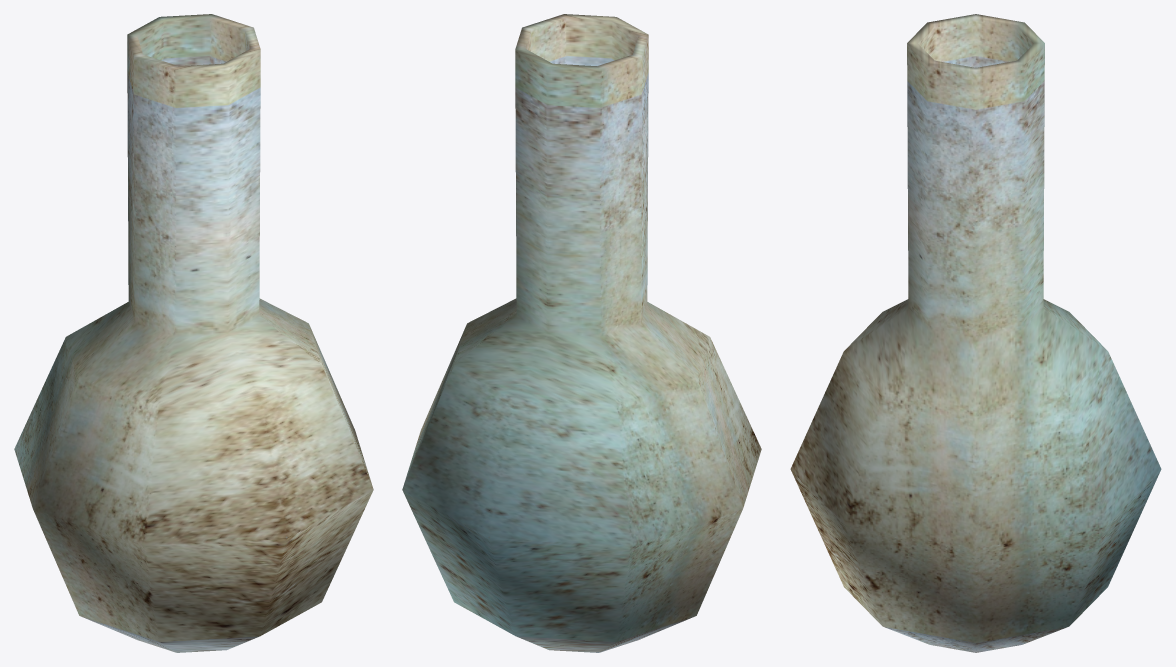
The model's file is florence_flask.FBX.
3 views of the same model, side by side, from view 1: azimuth 30°, elevation 25°; view 2: azimuth 150°, elevation 25°; view 3: azimuth 270°, elevation 25° (orthographic).
Visible parts, largest first — view 1: florence_flask; view 2: florence_flask; view 3: florence_flask.
Boxes of the visible parts, left/top/right/bottom form: florence_flask: left=14, top=14, right=373, bottom=652; florence_flask: left=402, top=14, right=761, bottom=652; florence_flask: left=790, top=14, right=1161, bottom=652.
Size of the model in its own units: 22.34 by 38.68 by 22.34.
